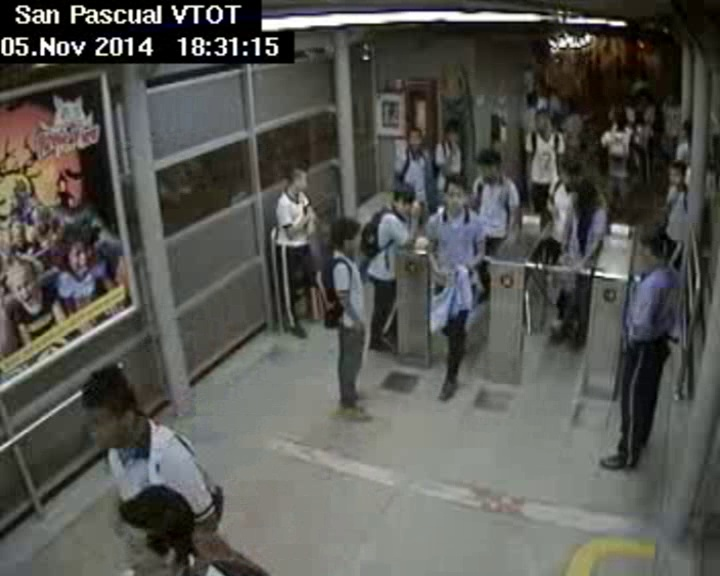person: (71, 365, 146, 452), (107, 492, 187, 567), (636, 223, 680, 270), (319, 213, 364, 251), (442, 174, 473, 217), (567, 179, 603, 212), (391, 180, 421, 215), (280, 165, 312, 197), (475, 145, 503, 181), (665, 161, 693, 194), (531, 108, 558, 140), (404, 118, 425, 152), (439, 120, 460, 148), (680, 115, 697, 142), (615, 108, 632, 133), (529, 87, 545, 109), (565, 96, 579, 113), (636, 91, 648, 108), (666, 91, 677, 106)
